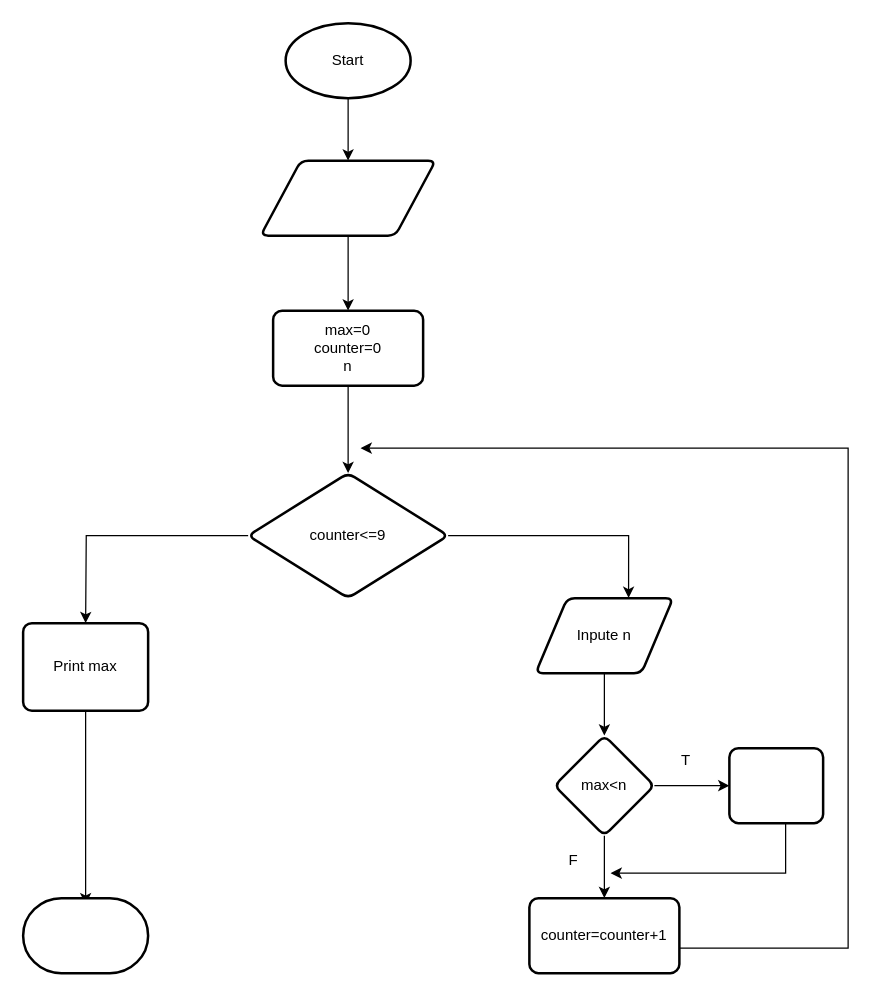
This 880x995 diagram has some shape labels left out. Each missing label, with the centre of its shape:
Input max counter: point 347,197
Print max=n: point 776,785
Stop: point 85,935
